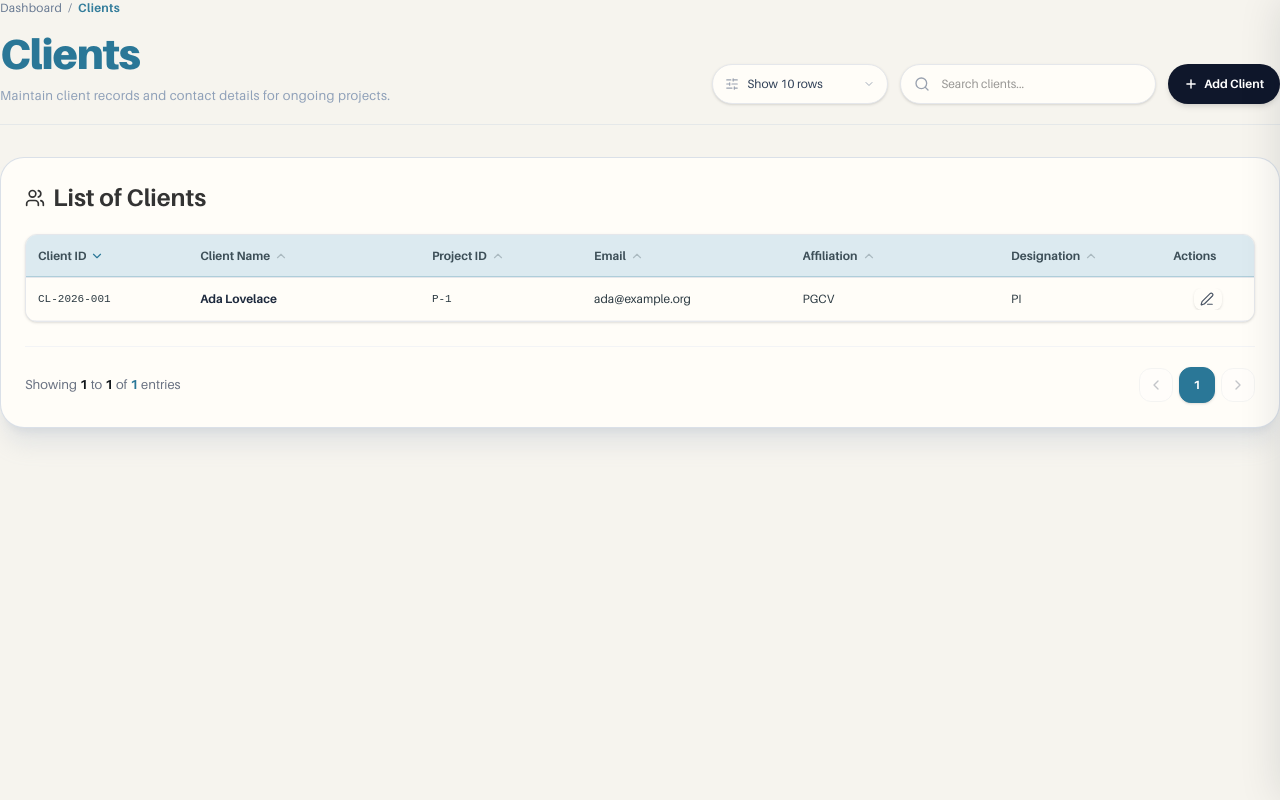
Scenario: ClientsPage edit › opens the slide-over with the selected client's details
Check: the text "Ada Lovelace" is shown, box left=200, top=291, right=277, bottom=306
Click the button named "Edit client": (1208, 299) left=1194, top=288, right=1222, bottom=310
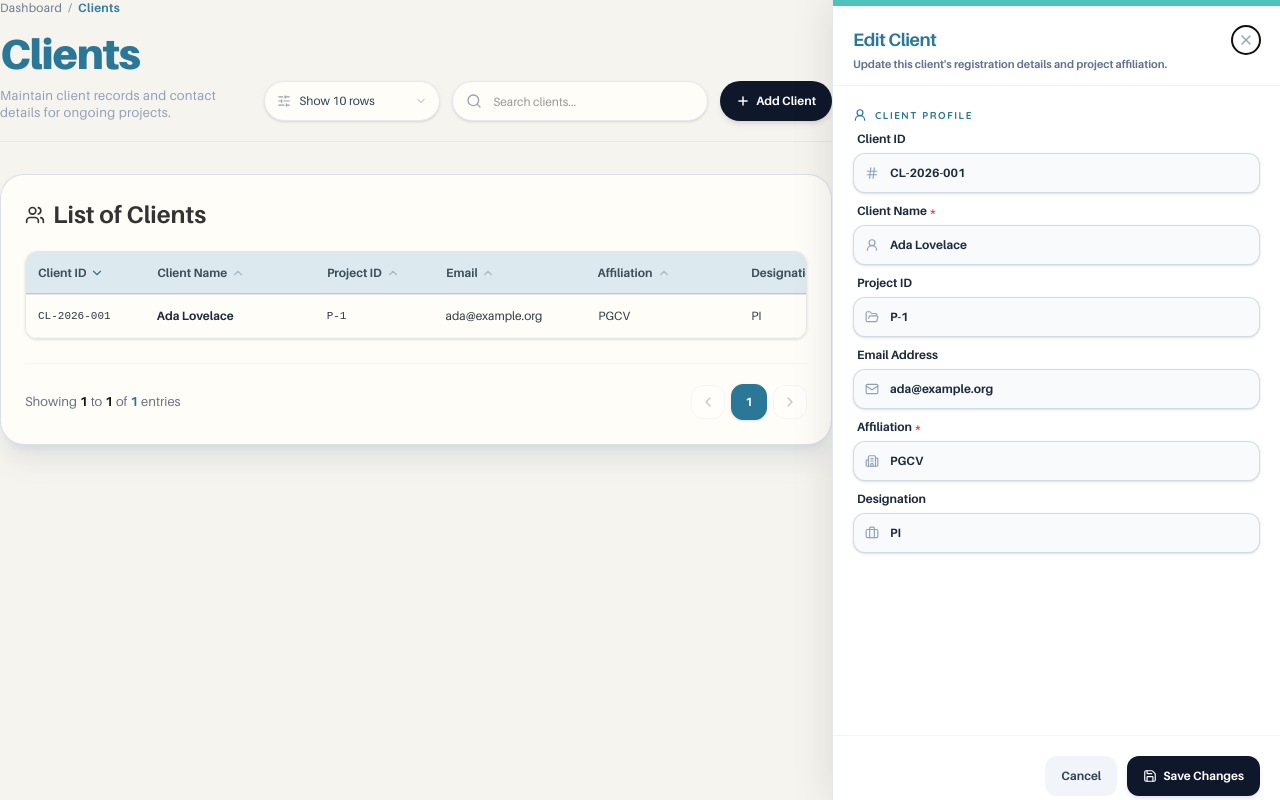
Check: the heading "Edit Client" is shown, box left=853, top=29, right=936, bottom=50
Check: the field labelled "Project ID" holds "P-1", box left=853, top=296, right=1260, bottom=336
Check: the field labelled "Client Name *" holds "Ada Lovelace", box left=853, top=224, right=1260, bottom=264
